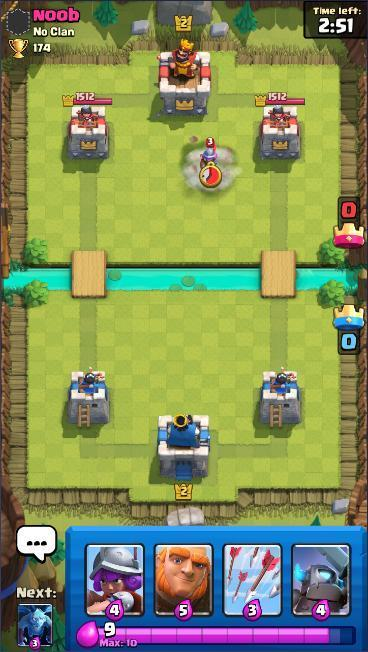enemy_musketeer: (199, 136, 219, 179)
